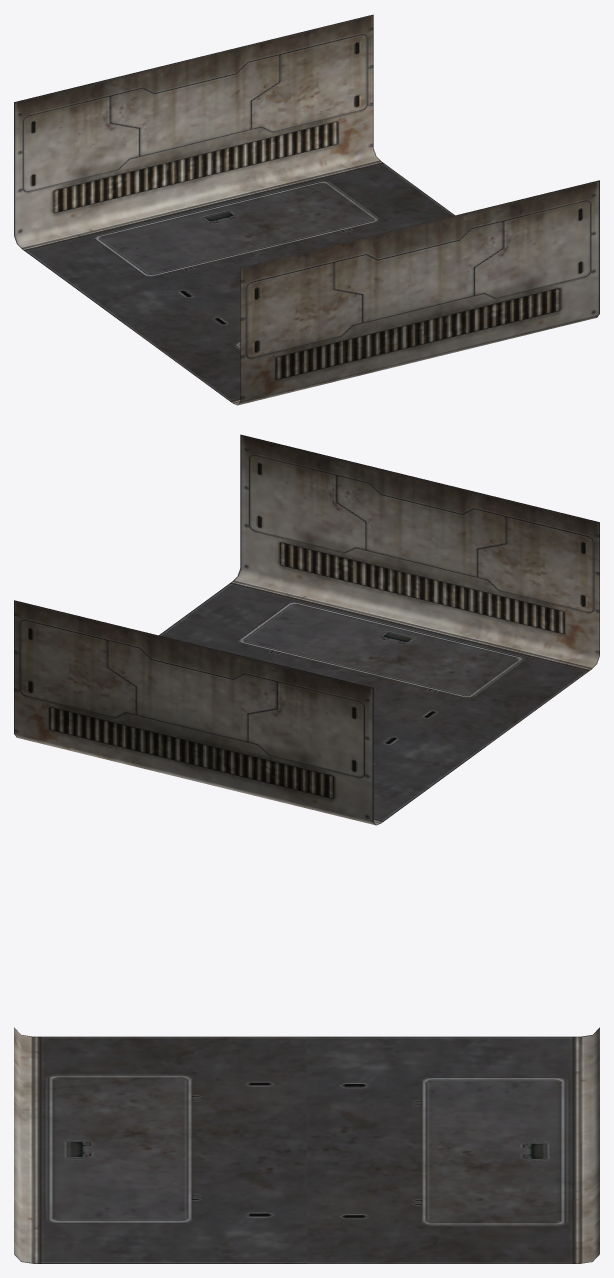
File: lab_ceiling_box_hatch.dae
The picture shows the model from 3 angles, top to bottom: view 1: azimuth 30°, elevation 25°; view 2: azimuth 150°, elevation 25°; view 3: azimuth 270°, elevation 25°; orthographic projection. The views are drawn at different scales.
Visible parts, largest first — view 1: lab_ceiling_box_hatch; view 2: lab_ceiling_box_hatch; view 3: lab_ceiling_box_hatch.
Part boxes in pixels (box(x1,y1,x2,y2)): lab_ceiling_box_hatch: box(14, 14, 599, 405); lab_ceiling_box_hatch: box(14, 434, 599, 825); lab_ceiling_box_hatch: box(14, 1027, 599, 1263).
Bounding box in the file's own units: 2 × 0.75 × 2.18.
